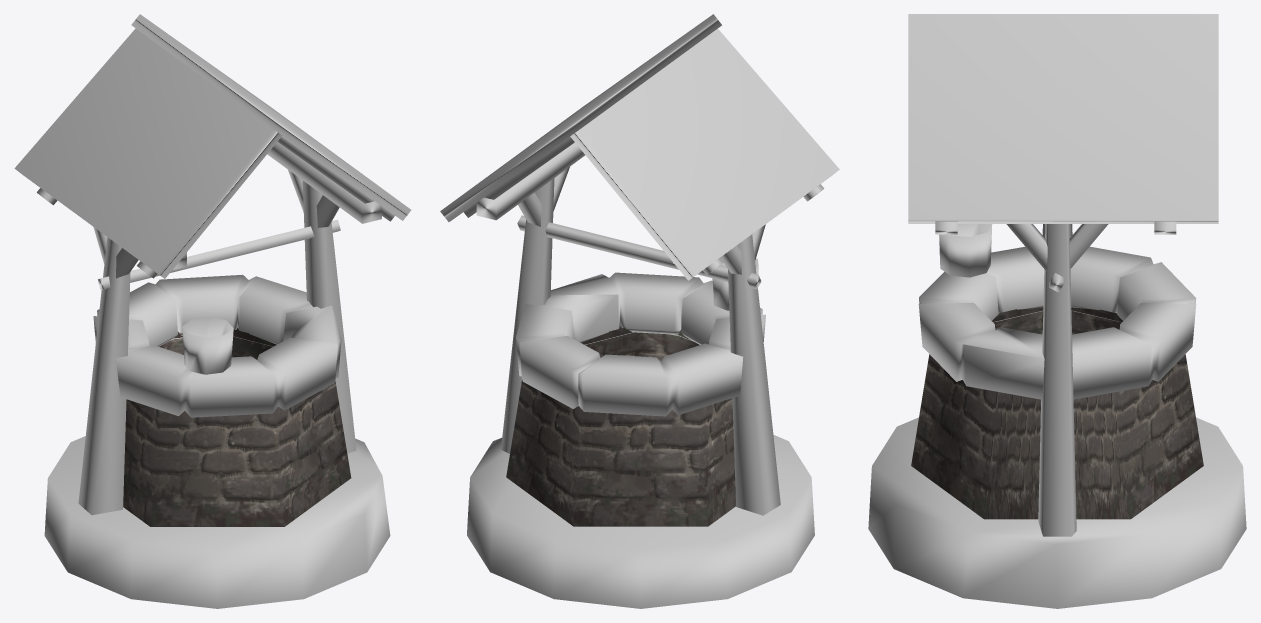
The model's file is Well_1.fbx.
3 renders of one model, left to right at view 1: azimuth 30°, elevation 25°; view 2: azimuth 150°, elevation 25°; view 3: azimuth 270°, elevation 25°, orthographic. The views are drawn at different scales.
Visible parts, largest first — view 1: Mesh; view 2: Mesh; view 3: Mesh.
Part boxes in pixels (x1,y1,x2,y2): Mesh: [14, 14, 411, 608]; Mesh: [440, 14, 839, 608]; Mesh: [868, 14, 1246, 608].
Size of the model in its own units: 205 by 307 by 205.
